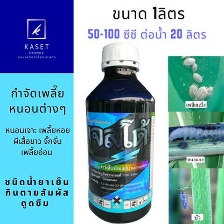insecticide: (81, 40, 159, 224)
